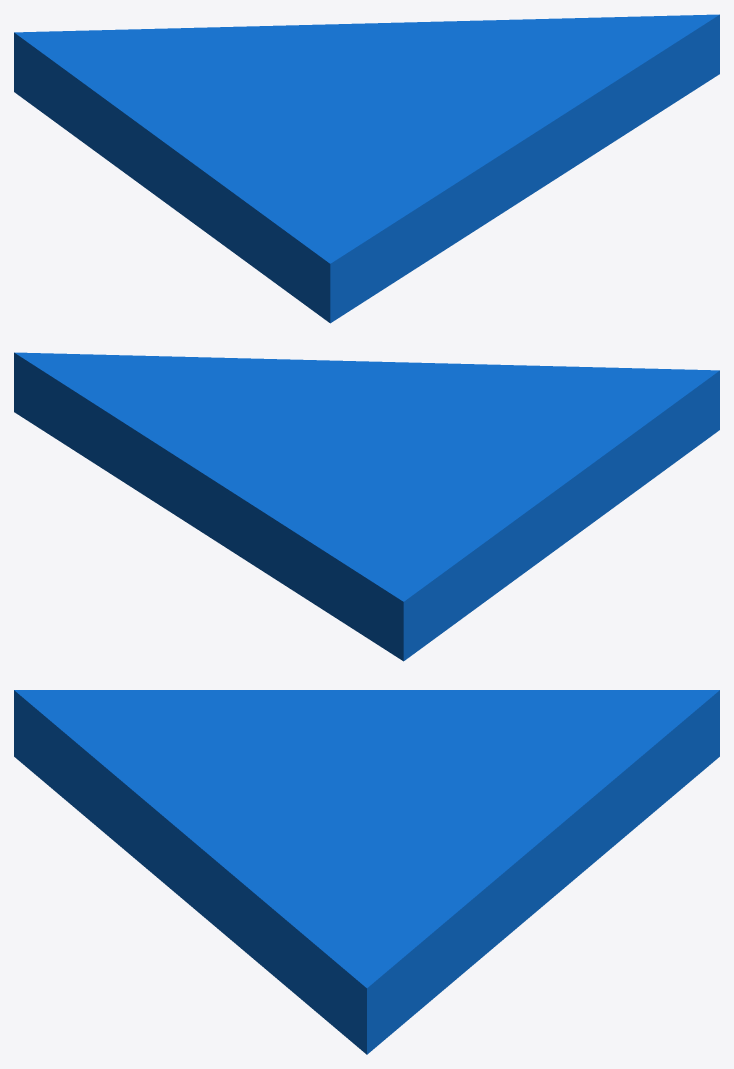
The model's file is playerArrow.fbx.
3 renders of one model, top to bottom at view 1: azimuth 30°, elevation 25°; view 2: azimuth 150°, elevation 25°; view 3: azimuth 270°, elevation 25°, orthographic. The views are drawn at different scales.
Visible parts, largest first — view 1: Plane; view 2: Plane; view 3: Plane.
Part boxes in pixels (bbox=[...]): Plane: bbox=[14, 14, 719, 323]; Plane: bbox=[14, 352, 719, 661]; Plane: bbox=[14, 690, 719, 1054].
Size of the model in its own units: 200 by 20.78 by 200.
